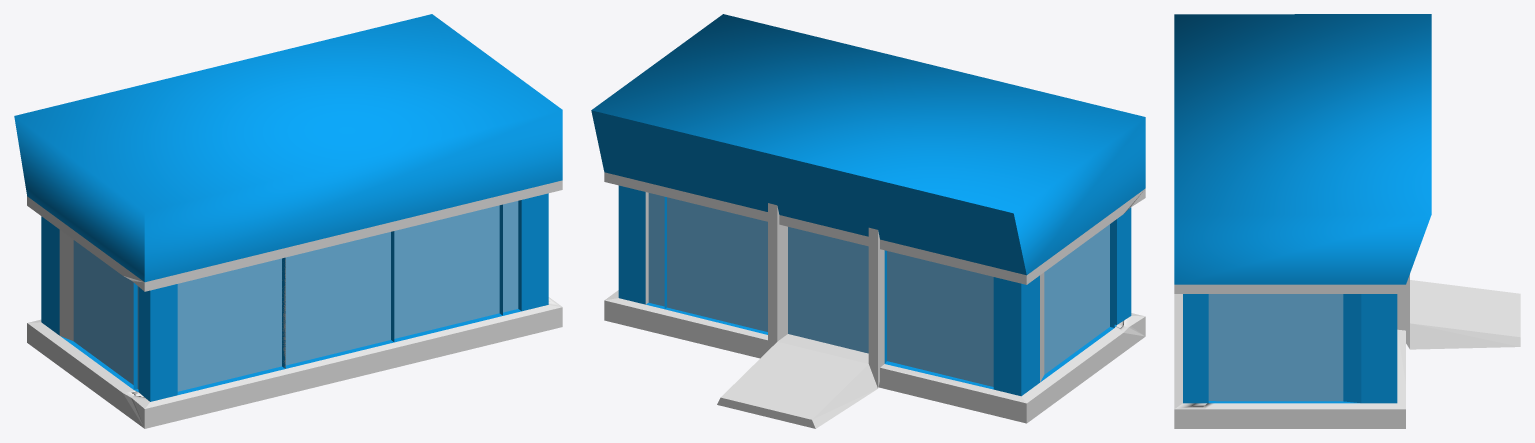
File: Shop4x2x2Blue.fbx
3 views of the same model, side by side, from view 1: azimuth 30°, elevation 25°; view 2: azimuth 150°, elevation 25°; view 3: azimuth 270°, elevation 25° (orthographic). The views are drawn at different scales.
Parts seen in each view (by area): view 1: Shop.002; view 2: Shop.002; view 3: Shop.002.
Boxes of the visible parts, x1,y1,x2,y2 form: Shop.002: [14, 14, 562, 428]; Shop.002: [591, 14, 1145, 428]; Shop.002: [1174, 14, 1520, 428].
Size of the model in its own units: 3.99 by 1.98 by 2.91.
1 material, 1 textured.
